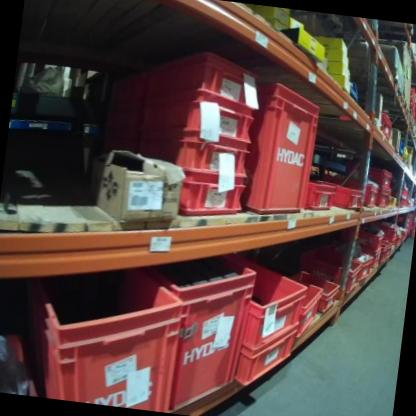small_load_carrier: (31, 263, 193, 413), (133, 249, 256, 414), (236, 79, 321, 219), (141, 43, 264, 113), (138, 87, 257, 146), (239, 263, 310, 357), (133, 131, 252, 175), (231, 320, 301, 388), (171, 170, 247, 220), (295, 242, 362, 292), (290, 275, 324, 338), (318, 178, 364, 213), (340, 218, 383, 251), (350, 161, 395, 190), (310, 274, 340, 315), (303, 181, 337, 212), (347, 175, 378, 209), (348, 251, 373, 280), (366, 245, 387, 265), (378, 223, 397, 243), (375, 188, 392, 210), (380, 111, 393, 139), (377, 241, 392, 263), (371, 250, 380, 272)
